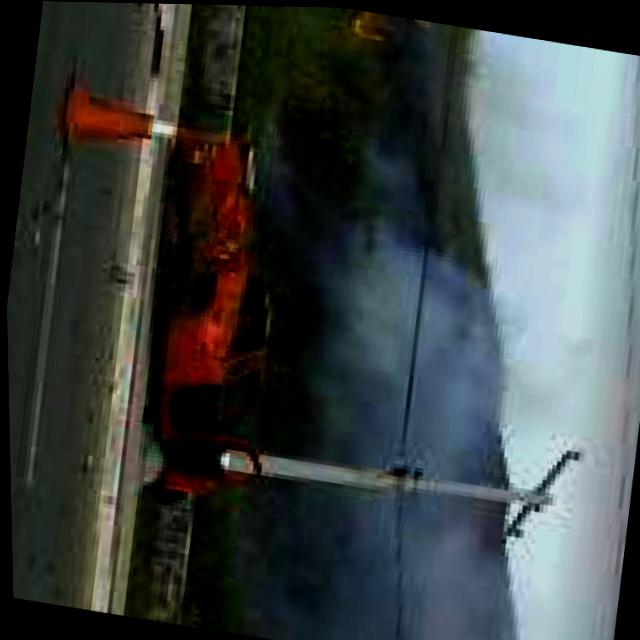smoke: (192, 97, 538, 640)
